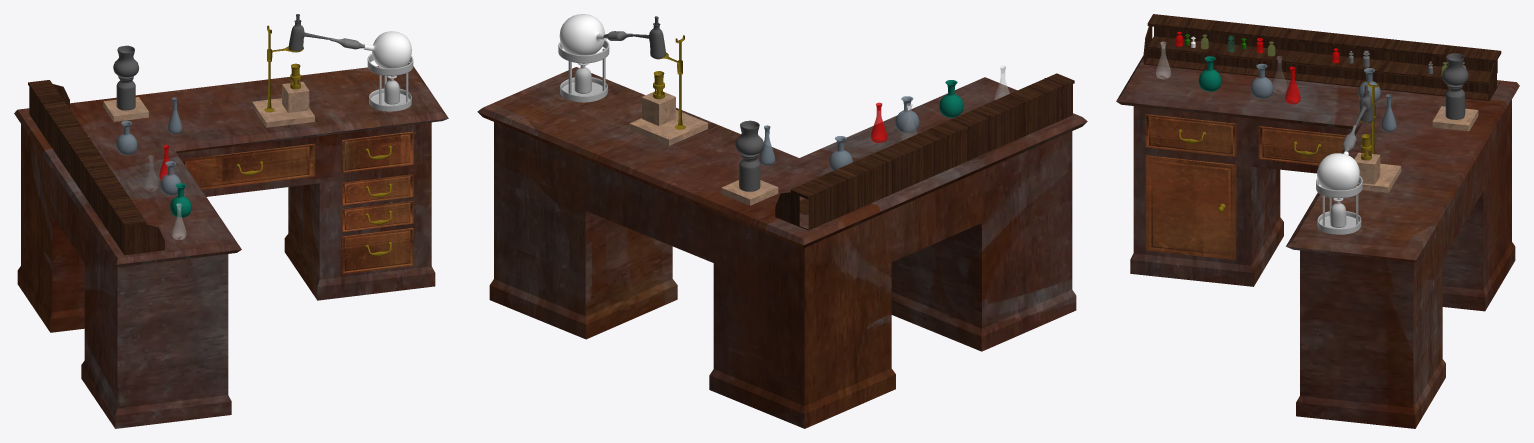
Rendered from kemiaasztal.glb.
The picture shows the model from 3 angles, left to right: view 1: azimuth 30°, elevation 25°; view 2: azimuth 150°, elevation 25°; view 3: azimuth 270°, elevation 25°; orthographic projection. The views are drawn at different scales.
Visible parts, largest first — view 1: kemiaasztal_test, kemiaasztal_teto, kemiaasztal_nagy_2, kemiaasztal_uvegtarto_test, kemiaasztal_fiok_6, kemiaasztal_uvegtarto_teto, kemiaasztal_fiok_3, kemiaasztal_fiok_2, kemiaasztal_fiok_5, kemiaasztal_fiok_1, kemiaasztal_nagy_uveg_3, kemiaasztal_nagy_uveg_3_alj (+3 smaller); view 2: kemiaasztal_test, kemiaasztal_teto, kemiaasztal_uvegtarto_test, kemiaasztal_nagy_2, kemiaasztal_uvegtarto_teto, kemiaasztal_nagy_uveg_3, kemiaasztal_nagy_uveg_3_alj, kemiaasztal_nagy_uveg_7, kemiaasztal_nagy_uveg_6; view 3: kemiaasztal_test, kemiaasztal_teto, kemiaasztal_uvegtarto_test, kemiaasztal_fiok_4, kemiaasztal_nagy_2, kemiaasztal_uvegtarto_teto, kemiaasztal_fiok_8, kemiaasztal_fiok_7, kemiaasztal_nagy_uveg_3, kemiaasztal_nagy_uveg_3_alj, kemiaasztal_nagy_uveg_7, kemiaasztal_nagy_uveg_6.
Part boxes in pixels (x1=…): kemiaasztal_test: x1=17, y1=122, x2=435, y2=428; kemiaasztal_teto: x1=14, y1=62, x2=448, y2=267; kemiaasztal_nagy_2: x1=252, y1=14, x2=413, y2=127; kemiaasztal_uvegtarto_test: x1=29, y1=84, x2=164, y2=255; kemiaasztal_fiok_6: x1=181, y1=143, x2=315, y2=189; kemiaasztal_uvegtarto_teto: x1=28, y1=80, x2=145, y2=226; kemiaasztal_fiok_3: x1=341, y1=228, x2=413, y2=274; kemiaasztal_fiok_2: x1=341, y1=131, x2=413, y2=173; kemiaasztal_fiok_5: x1=341, y1=174, x2=413, y2=205; kemiaasztal_fiok_1: x1=341, y1=201, x2=413, y2=231; kemiaasztal_nagy_uveg_3: x1=113, y1=45, x2=138, y2=110; kemiaasztal_nagy_uveg_3_alj: x1=103, y1=97, x2=148, y2=121; kemiaasztal_test: x1=489, y1=122, x2=1076, y2=428; kemiaasztal_teto: x1=477, y1=67, x2=1087, y2=248; kemiaasztal_uvegtarto_test: x1=775, y1=78, x2=1072, y2=230; kemiaasztal_nagy_2: x1=558, y1=14, x2=707, y2=145; kemiaasztal_uvegtarto_teto: x1=790, y1=73, x2=1074, y2=199; kemiaasztal_nagy_uveg_3: x1=735, y1=120, x2=764, y2=191; kemiaasztal_nagy_uveg_3_alj: x1=721, y1=180, x2=778, y2=205; kemiaasztal_nagy_uveg_7: x1=939, y1=80, x2=963, y2=117; kemiaasztal_nagy_uveg_6: x1=895, y1=96, x2=919, y2=133; kemiaasztal_test: x1=1130, y1=100, x2=1515, y2=428; kemiaasztal_teto: x1=1116, y1=55, x2=1519, y2=262; kemiaasztal_uvegtarto_test: x1=1143, y1=26, x2=1499, y2=100; kemiaasztal_fiok_4: x1=1145, y1=155, x2=1236, y2=259; kemiaasztal_nagy_2: x1=1316, y1=82, x2=1401, y2=234; kemiaasztal_uvegtarto_teto: x1=1147, y1=14, x2=1501, y2=62; kemiaasztal_fiok_8: x1=1145, y1=114, x2=1236, y2=156; kemiaasztal_fiok_7: x1=1258, y1=126, x2=1346, y2=165; kemiaasztal_nagy_uveg_3: x1=1442, y1=53, x2=1468, y2=119; kemiaasztal_nagy_uveg_3_alj: x1=1432, y1=106, x2=1478, y2=131; kemiaasztal_nagy_uveg_7: x1=1198, y1=56, x2=1221, y2=91; kemiaasztal_nagy_uveg_6: x1=1250, y1=63, x2=1273, y2=98.
Bounding box in the file's own units: 2.13 × 1.3 × 1.7.
19 materials, 5 textured.
